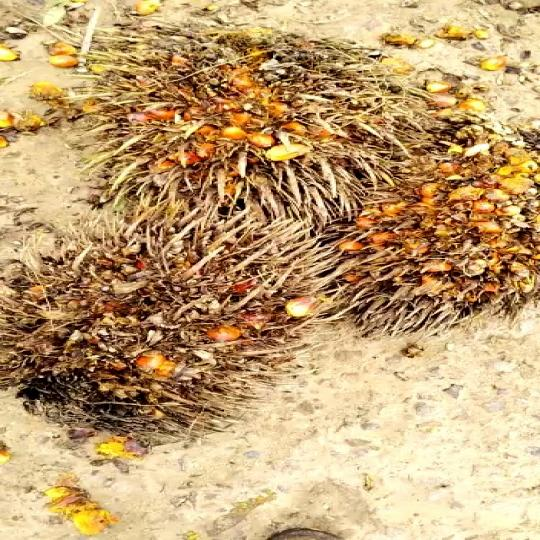terlalu masak: (74, 36, 486, 234), (0, 234, 324, 416)
